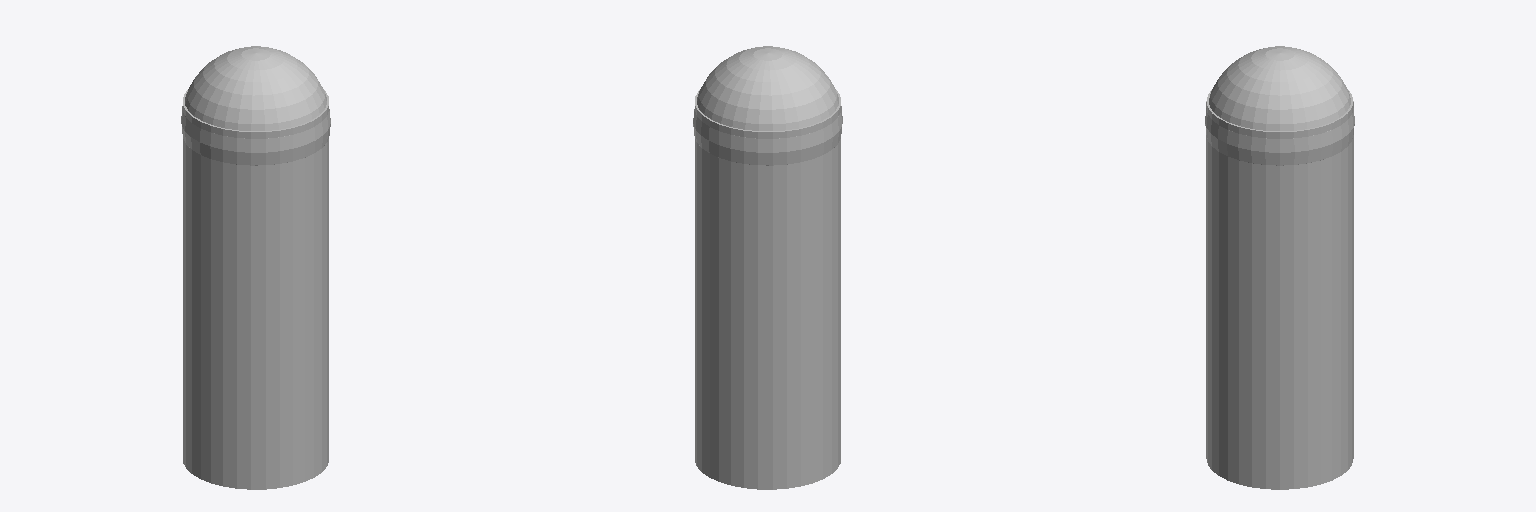
The model's file is rocket.obj.
3 views of the same model, side by side, from view 1: azimuth 30°, elevation 25°; view 2: azimuth 150°, elevation 25°; view 3: azimuth 270°, elevation 25° (orthographic).
Visible parts, largest first — view 1: Sphere; view 2: Sphere; view 3: Sphere.
Part boxes in pixels (bbox=[...]): Sphere: bbox=[181, 46, 330, 489]; Sphere: bbox=[693, 46, 842, 489]; Sphere: bbox=[1205, 46, 1354, 489].
Bounding box in the file's own units: 0.5295 × 1.58 × 0.5295.